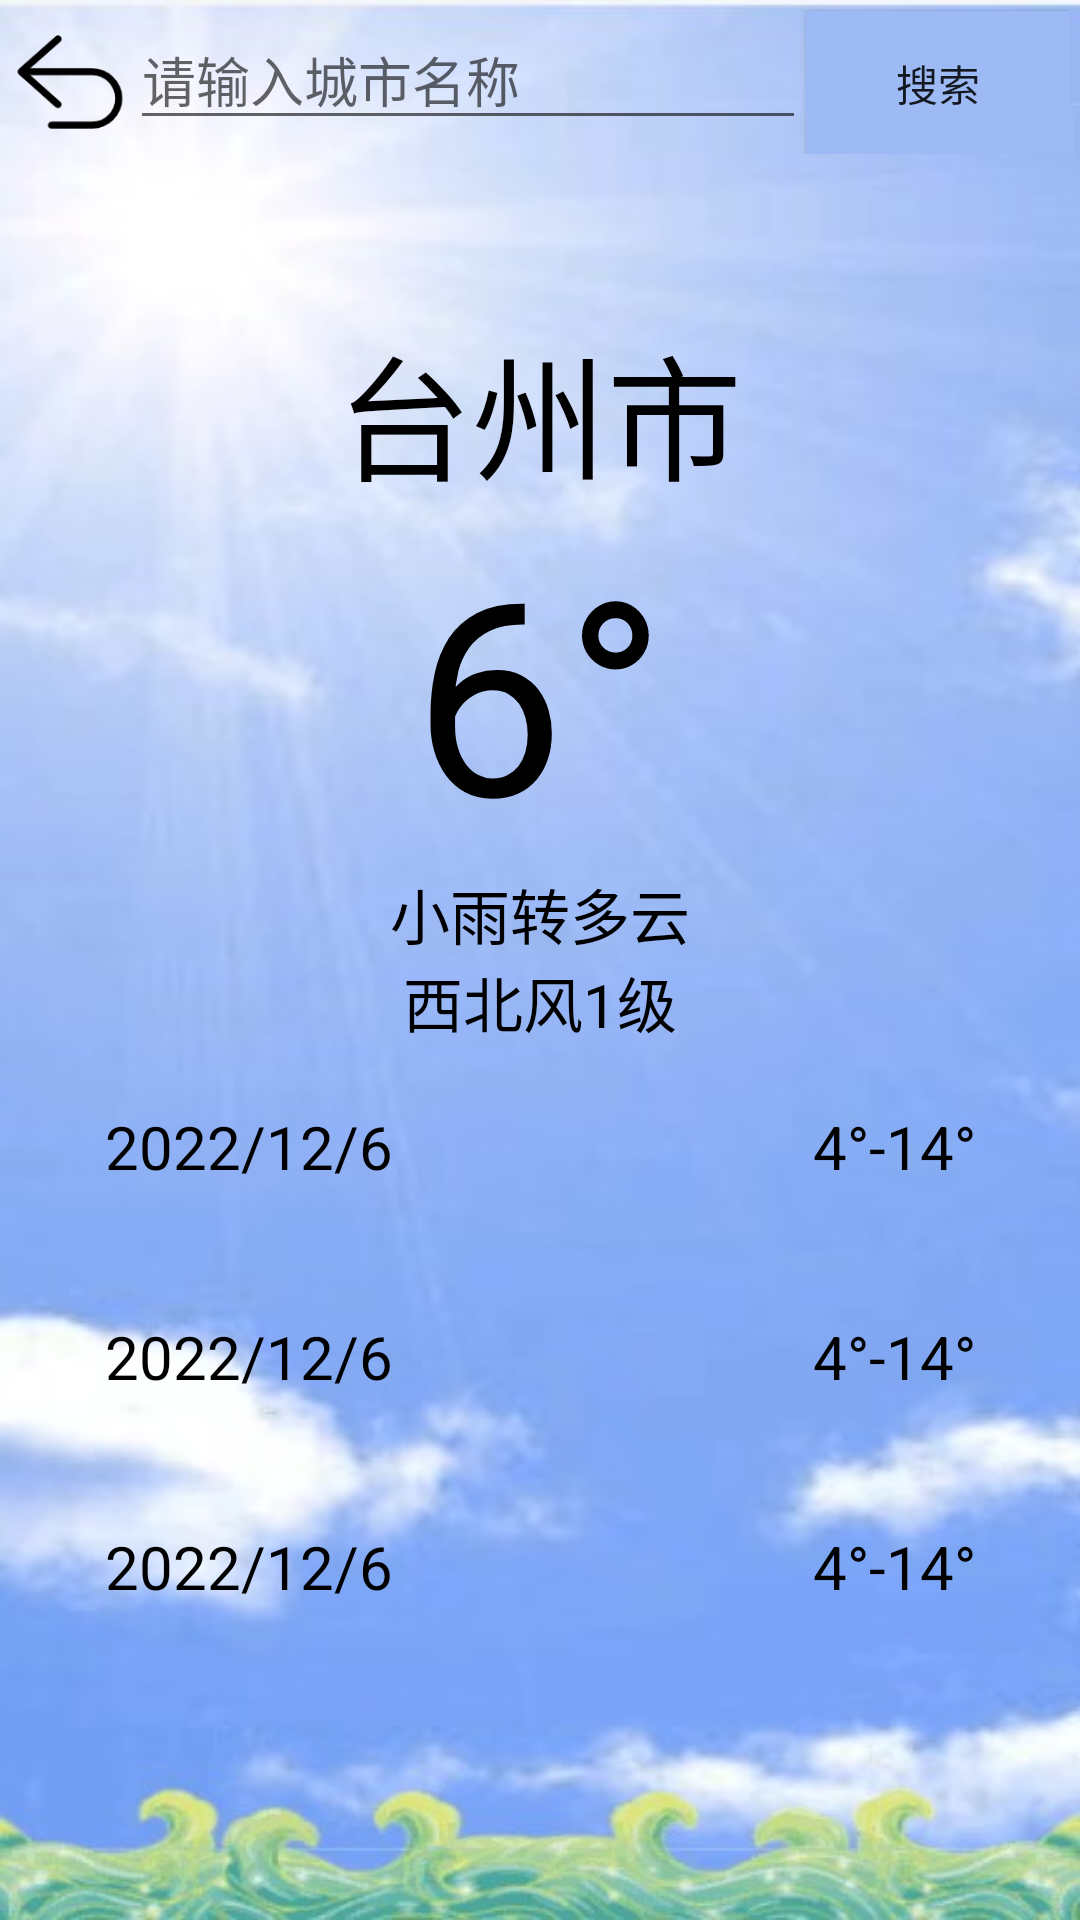

Where to tap for icons on this 1080px×1920px app screen, as (x=x, y=y):
back: (x=70, y=82)
